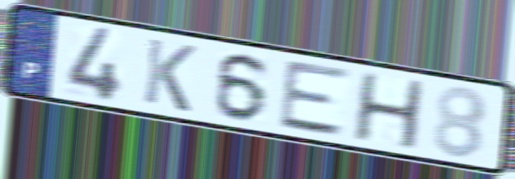4: (64, 25, 125, 103)
6: (214, 51, 273, 124)
8: (429, 84, 492, 161)
E: (275, 59, 354, 140)
H: (349, 70, 428, 153)
K: (139, 35, 199, 116)
